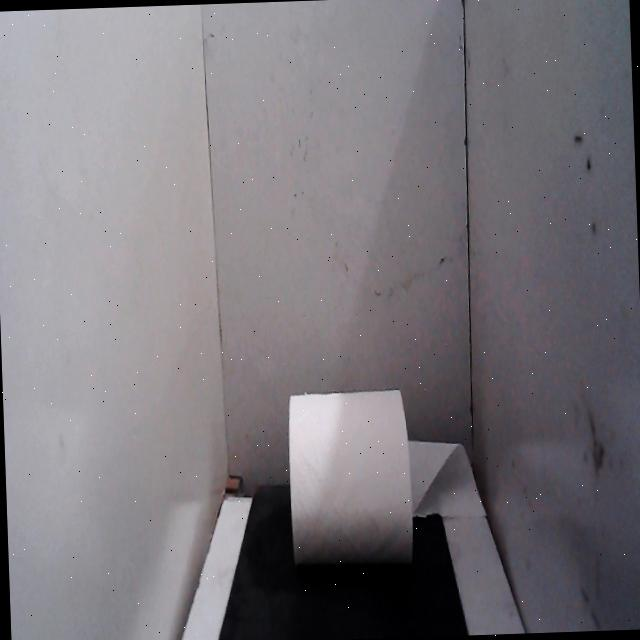papel: (279, 362, 492, 583)
